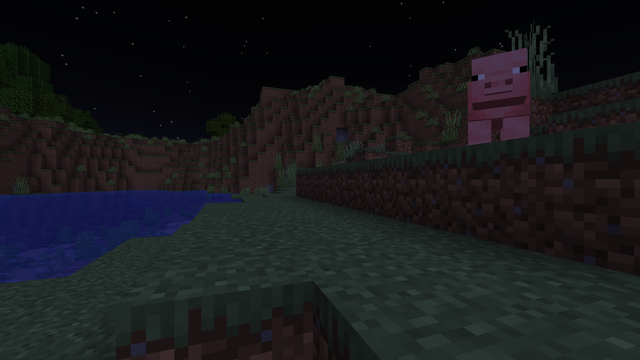cochons: (445, 69, 556, 142)
